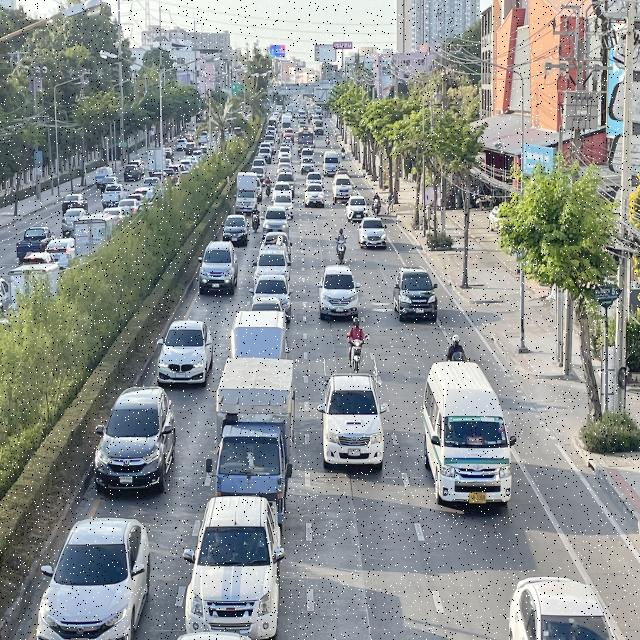bike: (347, 316, 368, 376), (443, 331, 471, 366), (336, 225, 348, 263), (250, 204, 261, 234), (372, 189, 381, 217), (265, 175, 273, 198)
car: (183, 493, 286, 640), (422, 358, 518, 511), (34, 518, 151, 640), (506, 567, 616, 640), (316, 262, 362, 322), (393, 264, 439, 323), (198, 238, 240, 295), (250, 275, 292, 323)
truck: (205, 356, 297, 532), (318, 357, 388, 473), (226, 309, 288, 362), (235, 171, 258, 215)
